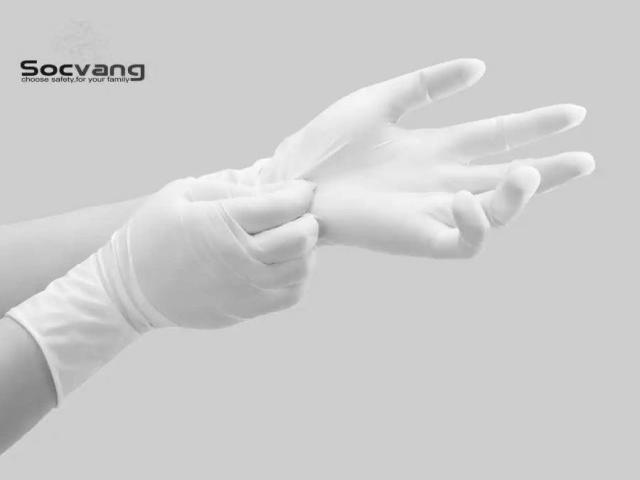gloved: (277, 56, 597, 263), (108, 177, 320, 332)
